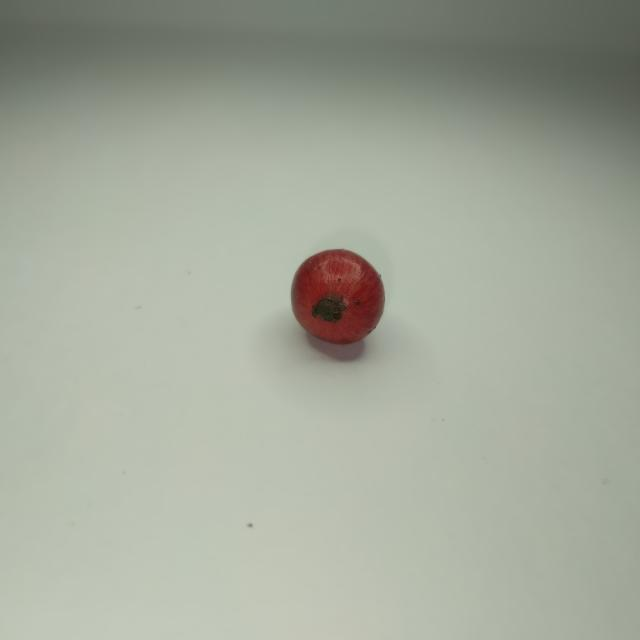Infectado: (291, 249, 384, 348)
